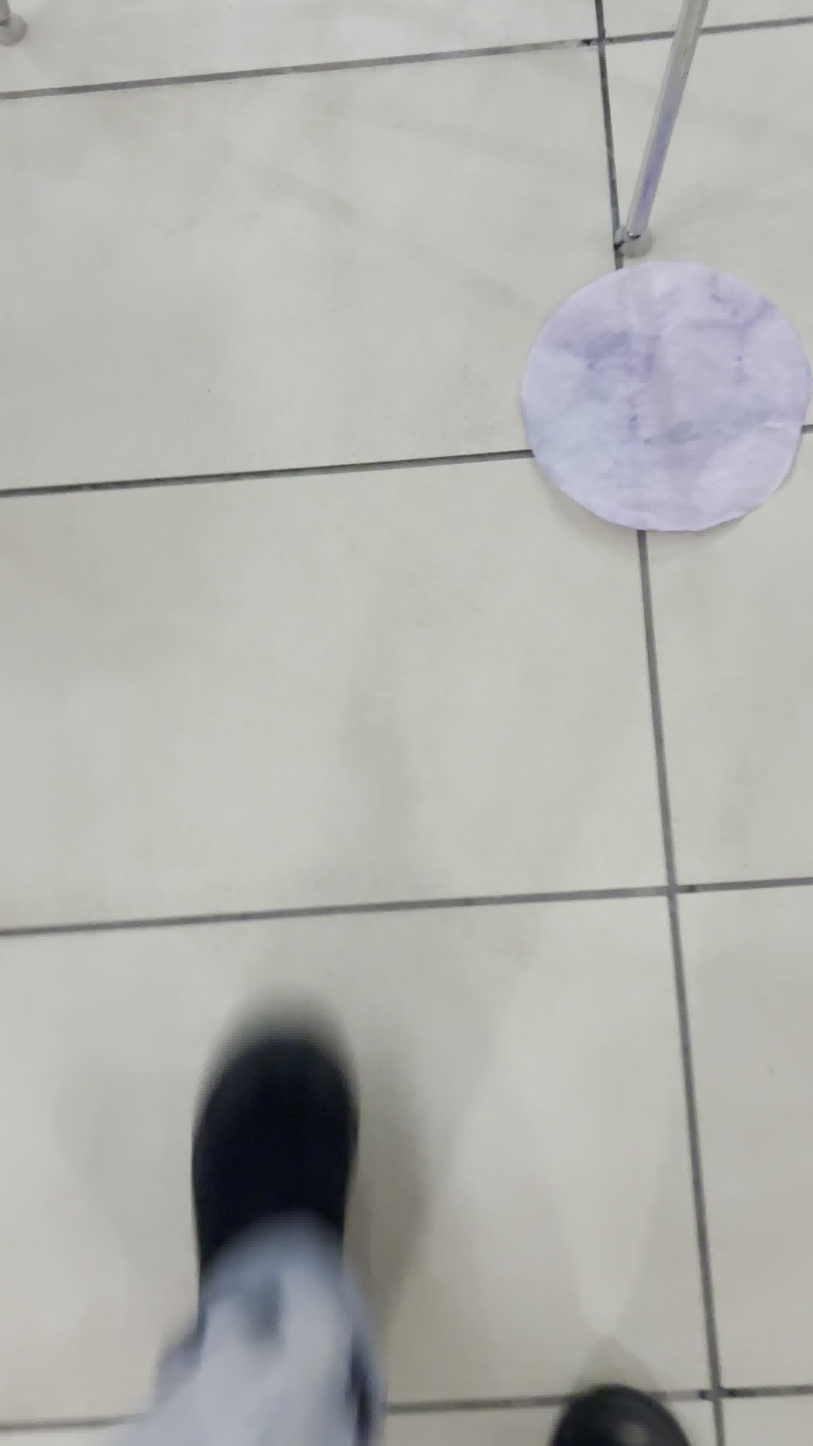Target: (520, 271, 804, 525)
